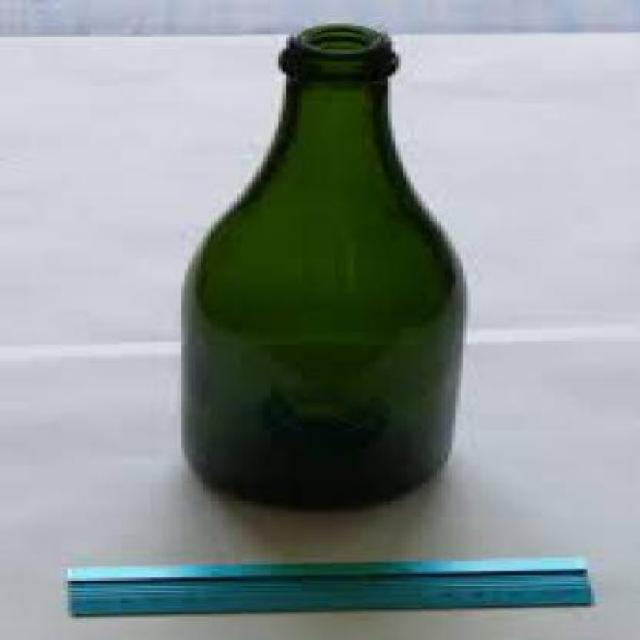kaca: (174, 22, 463, 509)
